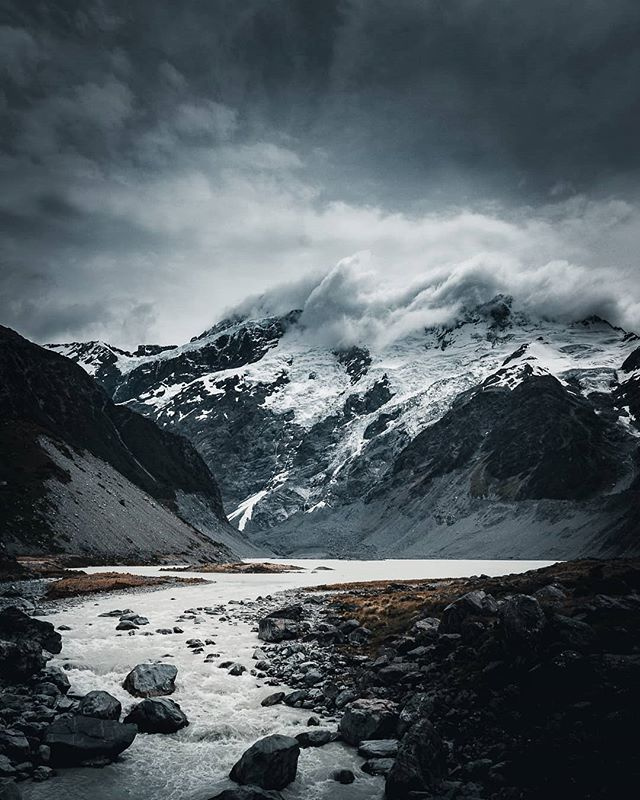mountain: (153, 243, 617, 557), (1, 324, 239, 538)
river: (55, 532, 557, 800)
rocks: (237, 575, 621, 793)
sky: (1, 1, 640, 294)
